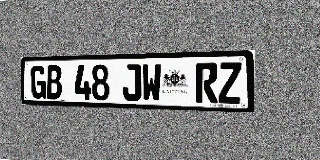4: (74, 65, 91, 100)
8: (92, 65, 109, 100)
B: (46, 65, 62, 99)
G: (31, 66, 46, 99)
J: (122, 64, 141, 101)
R: (195, 63, 218, 103)
W: (142, 64, 161, 102)
Z: (218, 62, 242, 104)
